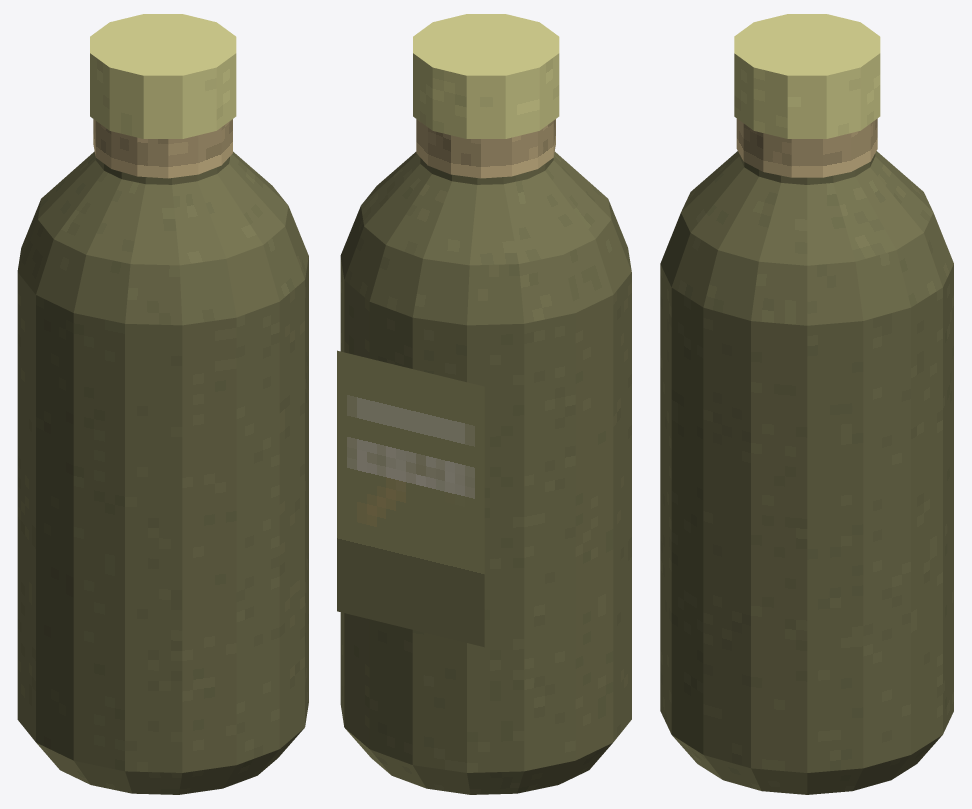
The model's file is wine_riesling.glb.
3 views of the same model, side by side, from view 1: azimuth 30°, elevation 25°; view 2: azimuth 150°, elevation 25°; view 3: azimuth 270°, elevation 25° (orthographic).
Visible parts, largest first — view 1: block_shaped drink bottle, block_foil capsule, block_neck foil band; view 2: block_shaped drink bottle, block_paper front label, block_foil capsule, block_neck foil band; view 3: block_shaped drink bottle, block_foil capsule, block_neck foil band.
Part boxes in pixels (bbox=[...]): block_shaped drink bottle: bbox=[17, 151, 308, 794]; block_foil capsule: bbox=[90, 14, 236, 138]; block_neck foil band: bbox=[93, 119, 232, 178]; block_shaped drink bottle: bbox=[340, 151, 631, 794]; block_paper front label: bbox=[337, 350, 484, 647]; block_foil capsule: bbox=[413, 14, 559, 138]; block_neck foil band: bbox=[416, 119, 555, 178]; block_shaped drink bottle: bbox=[660, 151, 953, 794]; block_foil capsule: bbox=[734, 14, 880, 138]; block_neck foil band: bbox=[736, 118, 877, 177].
Size of the model in its own units: 0.0618 by 0.1625 by 0.0626.
Materials: 1 (1 with a texture image).
